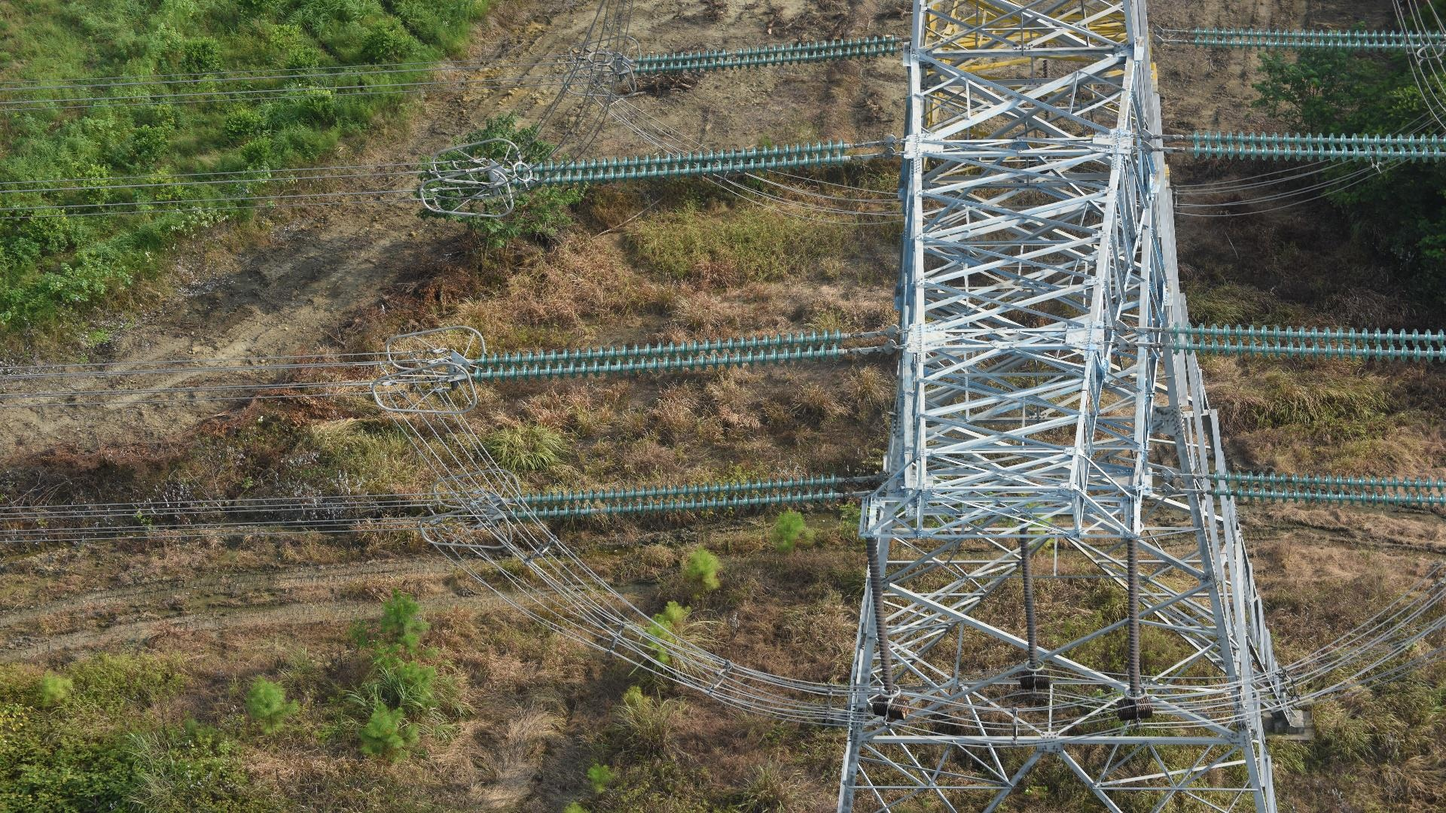insulator: (472, 327, 844, 385), (510, 137, 847, 192), (508, 471, 840, 524), (1167, 319, 1446, 365), (634, 32, 899, 78), (1207, 467, 1446, 510), (1188, 128, 1446, 167), (1191, 24, 1446, 56), (865, 536, 895, 692), (1017, 519, 1040, 666), (1125, 537, 1144, 695), (1039, 40, 1053, 79)
